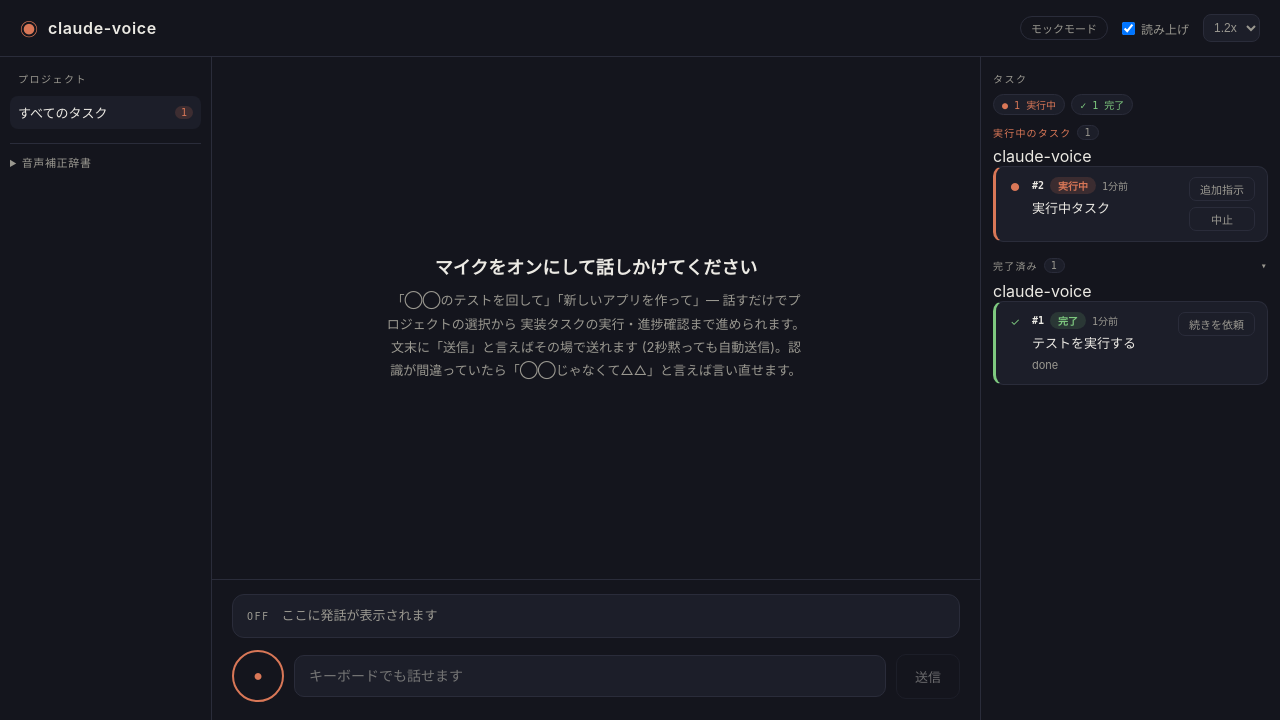
Test: 追いタスク(タスク選択とフォローアップ指示) › チップの解除ボタンで選択をクリアできる
Click the button "#1 完了 1分前 テストを実行する done" at (1100, 343), box 1032,312 -> 1168,374
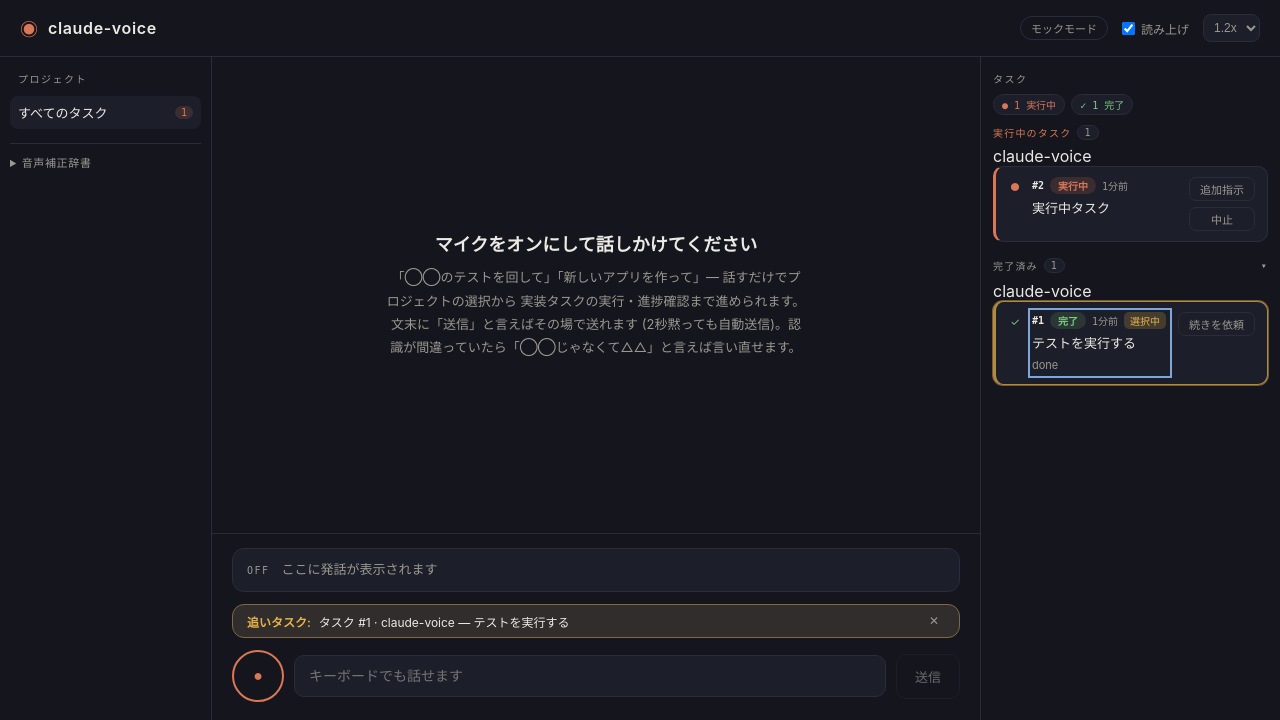
Click the button named "追いタスクの選択を解除" at (934, 621), box 923,612 -> 945,630
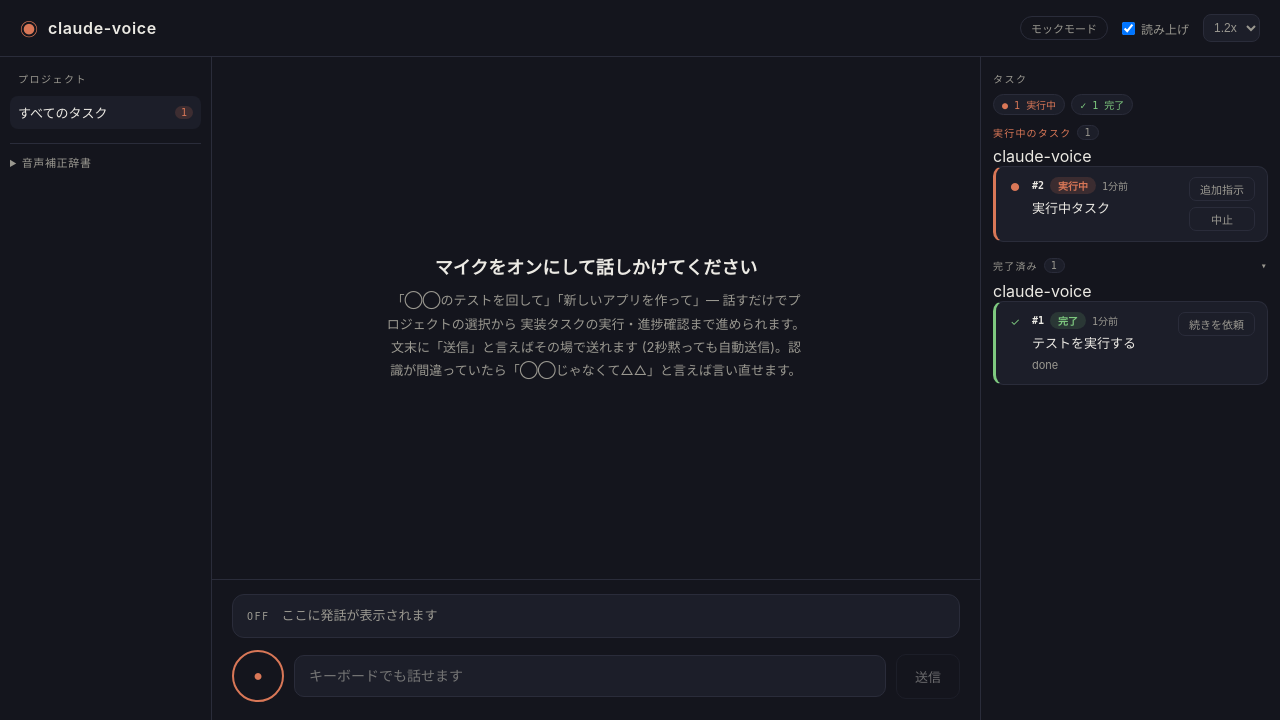
expect the text "追いタスク" is gone: met
